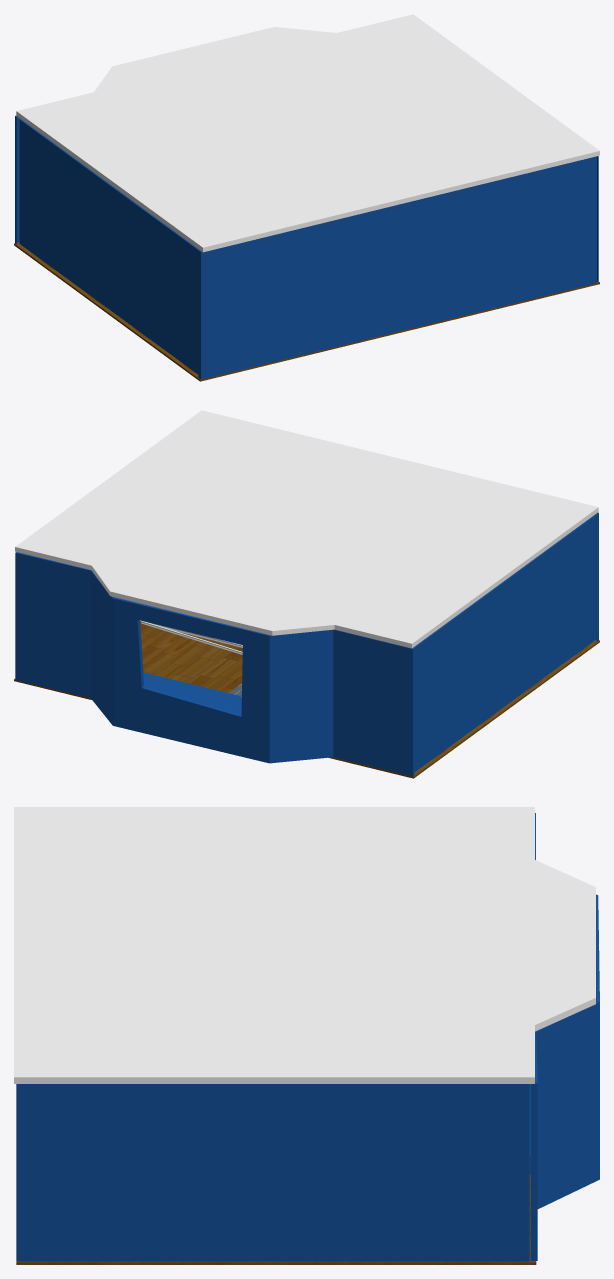
File: recamara.fbx
The picture shows the model from 3 angles, top to bottom: view 1: azimuth 30°, elevation 25°; view 2: azimuth 150°, elevation 25°; view 3: azimuth 270°, elevation 25°; orthographic projection. The views are drawn at different scales.
Visible parts, largest first — view 1: polySurface1635, polySurface1642, polySurface1633; view 2: polySurface1635, polySurface1642, polySurface1633; view 3: polySurface1635, polySurface1642, polySurface1633.
Part boxes in pixels (bbox=[...]): polySurface1635: bbox=[16, 14, 599, 252]; polySurface1642: bbox=[15, 115, 598, 379]; polySurface1633: bbox=[14, 242, 599, 381]; polySurface1635: bbox=[15, 410, 598, 648]; polySurface1642: bbox=[15, 512, 598, 776]; polySurface1633: bbox=[14, 621, 599, 778]; polySurface1635: bbox=[14, 807, 595, 1083]; polySurface1642: bbox=[16, 813, 599, 1261]; polySurface1633: bbox=[16, 1175, 536, 1264].
Bounding box in the file's own units: 34.62 × 11.1 × 31.5.
